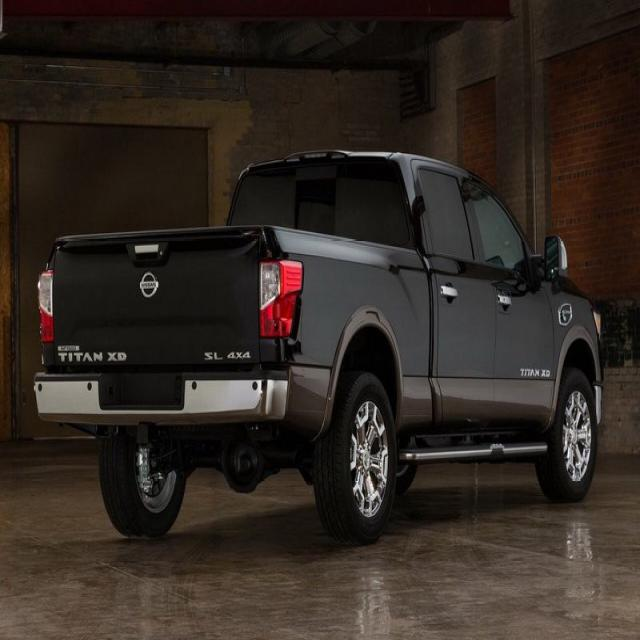back_glass: (229, 164, 411, 246)
back_left_side_light: (37, 266, 56, 346)
back_right_side_light: (257, 256, 304, 339)
door: (414, 170, 500, 440)
front_right_side_door: (459, 168, 556, 440)
front_right_side_mirror: (542, 233, 568, 288)
rear_bumper: (32, 362, 290, 430)
wheel: (312, 371, 398, 547), (98, 431, 186, 537), (538, 368, 596, 498)
